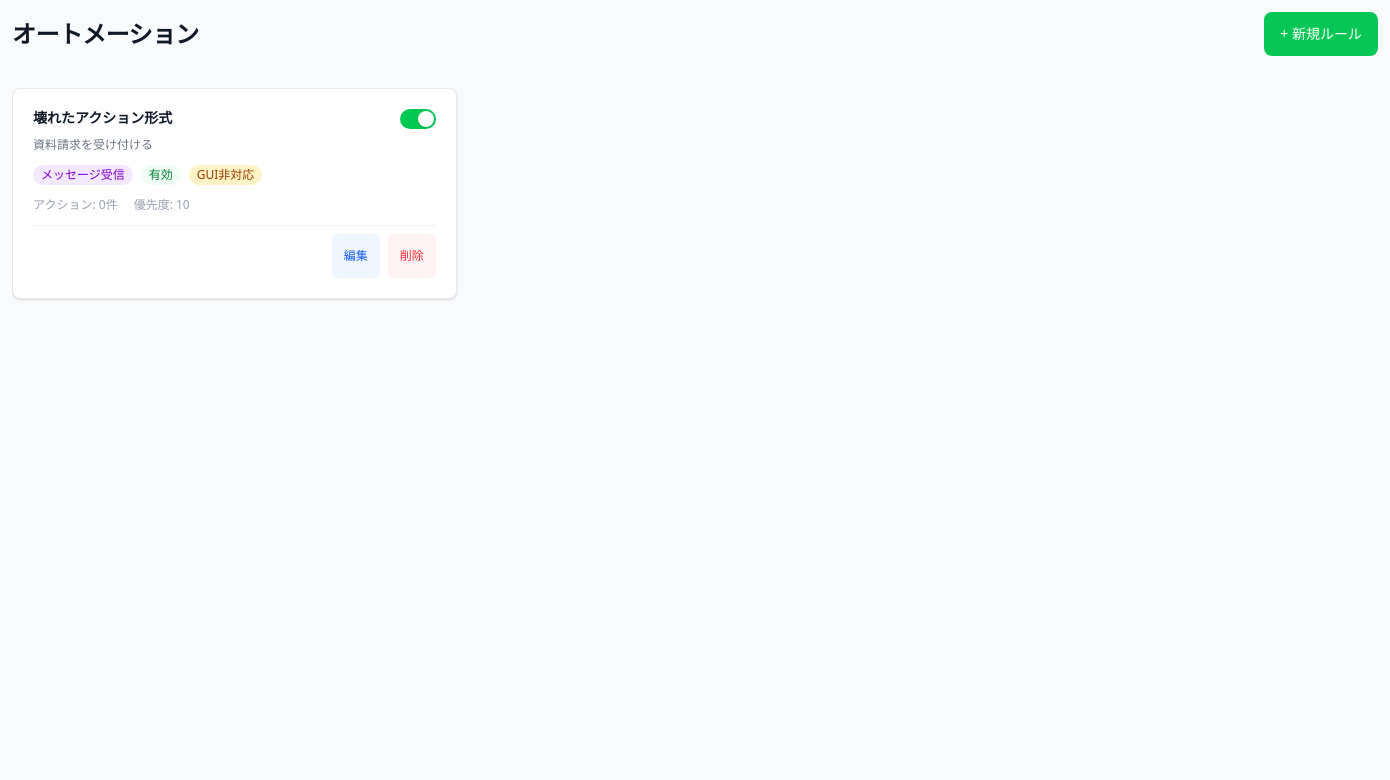
Test: AutomationsPage GUI builder › keeps a structurally invalid action array visible in fail-safe mode
The width and height of the screenshot is (1390, 780).
Expected: the text "GUI非対応" is shown, [189,165,262,185]
Click the button "編集": (356, 256) [332,234,380,278]
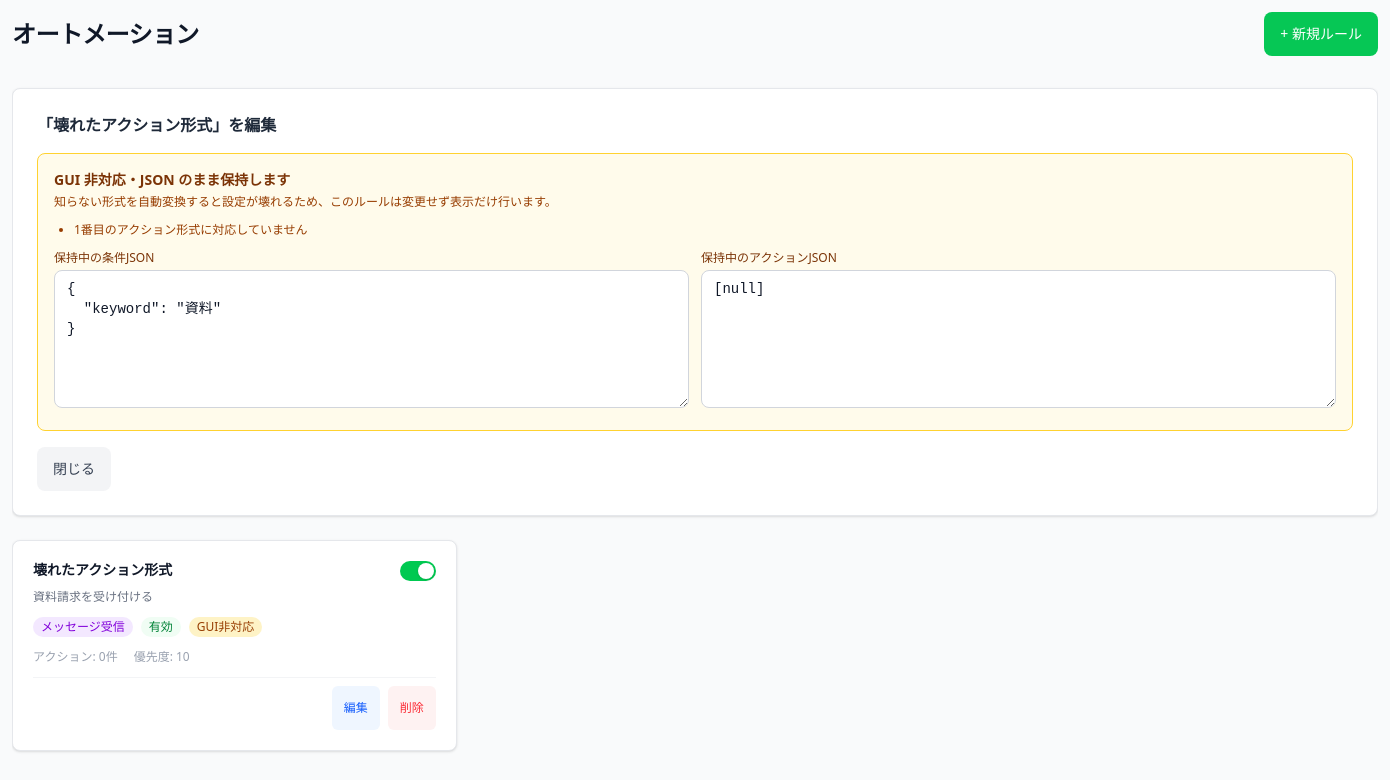
Expected: the heading "GUI 非対応・JSON のまま保持します" is shown, [54,170,290,189]
Expected: the text box labelled "保持中のアクションJSON" holds "[null]", [701,270,1336,408]
